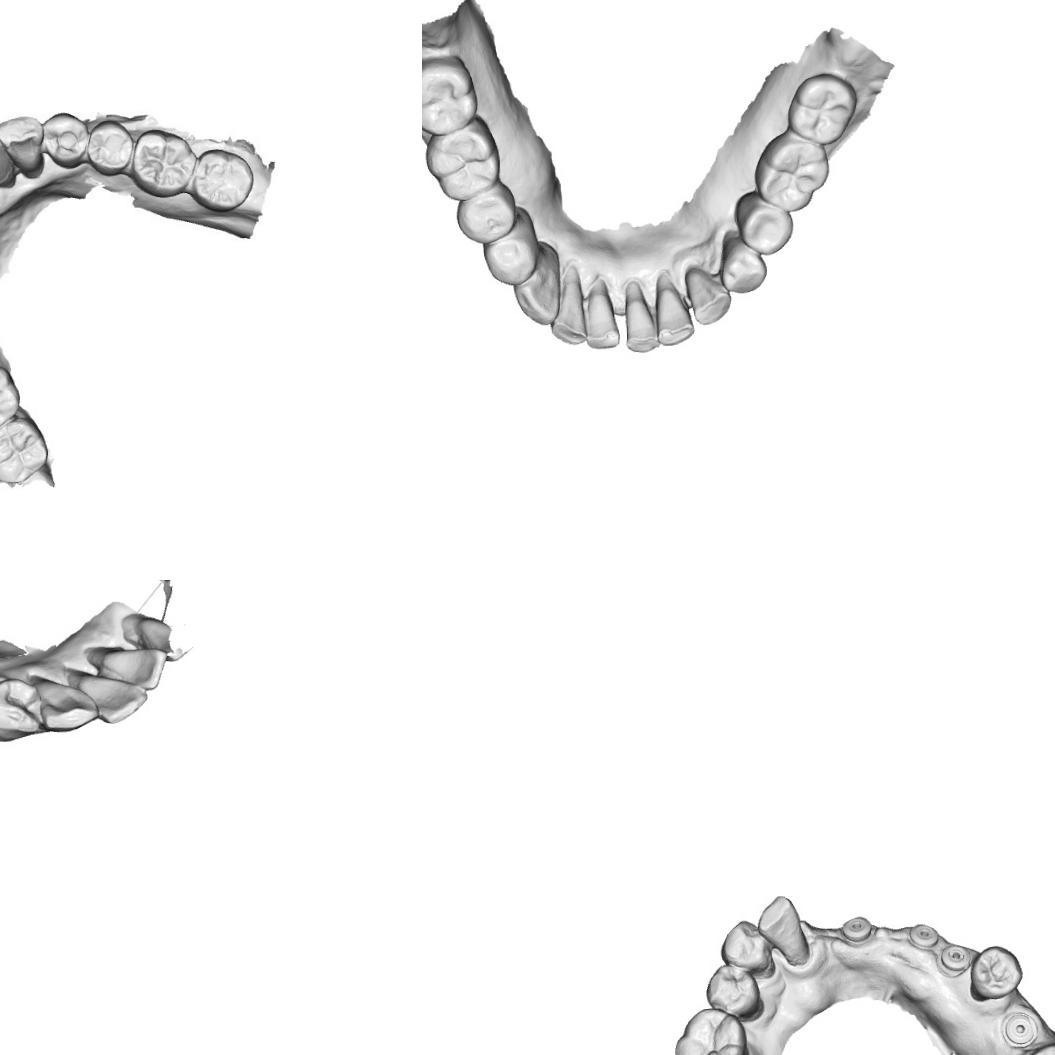canine: (510, 251, 564, 328), (756, 893, 811, 968), (33, 672, 98, 735), (681, 264, 733, 327), (0, 110, 44, 181)
implant: (1000, 1010, 1038, 1049), (840, 914, 874, 946), (905, 922, 940, 951)
implant_minus: (934, 941, 972, 978)
incisor: (82, 666, 146, 727), (100, 644, 170, 694), (546, 278, 588, 348), (653, 284, 697, 348), (582, 290, 622, 351), (621, 297, 661, 355), (0, 132, 20, 191)
molar: (422, 115, 503, 204), (752, 130, 832, 216), (783, 70, 860, 148), (422, 52, 479, 139), (187, 146, 258, 213), (133, 126, 195, 196), (670, 1006, 750, 1055), (0, 415, 51, 488), (0, 369, 19, 435)
premolar: (480, 215, 542, 290), (453, 182, 520, 247), (732, 191, 796, 259), (703, 962, 766, 1024), (718, 917, 776, 980), (967, 943, 1025, 1002), (714, 236, 769, 296), (42, 105, 92, 169), (0, 677, 44, 744), (89, 119, 135, 177)
